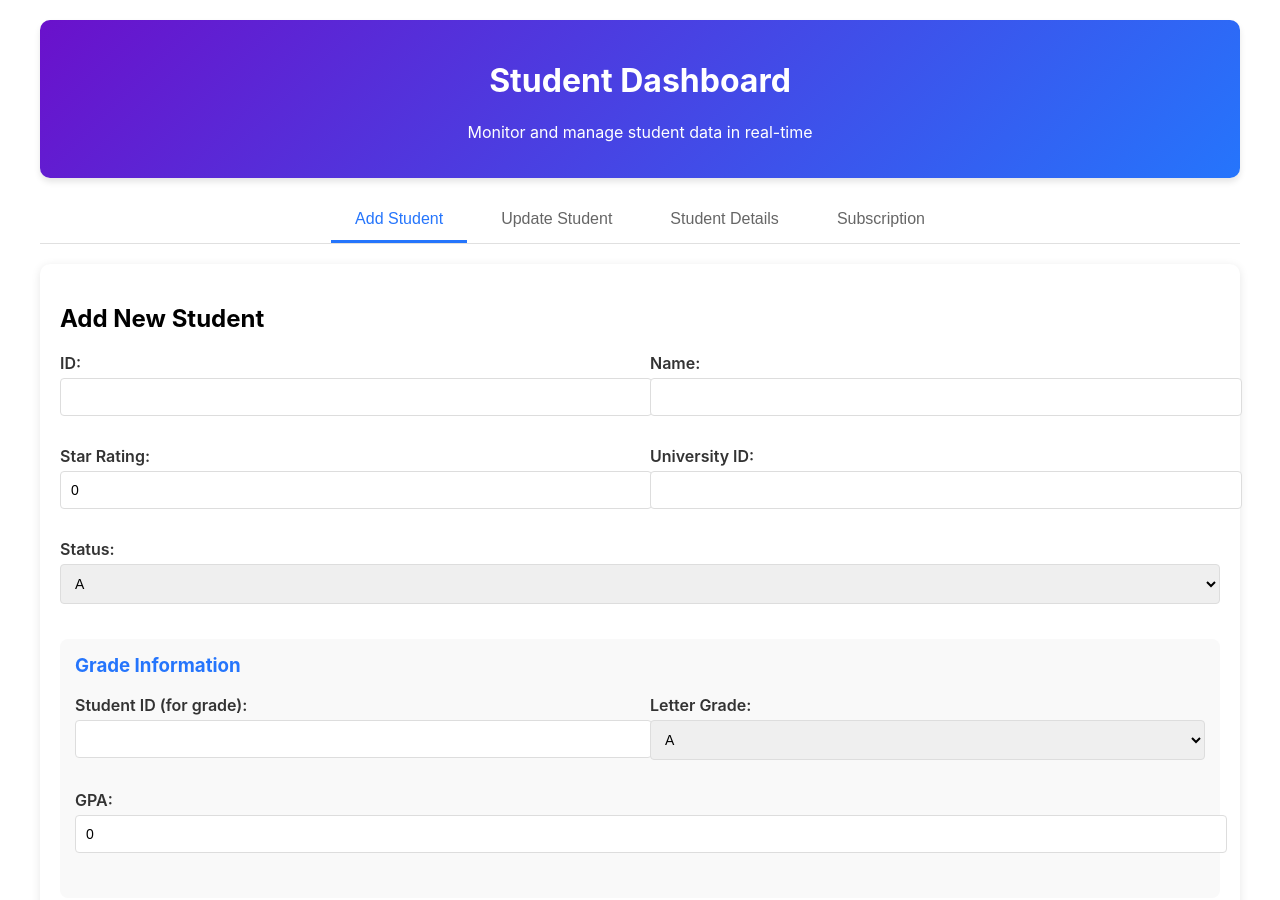
Test: switches between tabs
# Click on the Update Student tab using test ID
Click the button with test id "tab-update" at x=557, y=220, box 477,198 -> 636,243
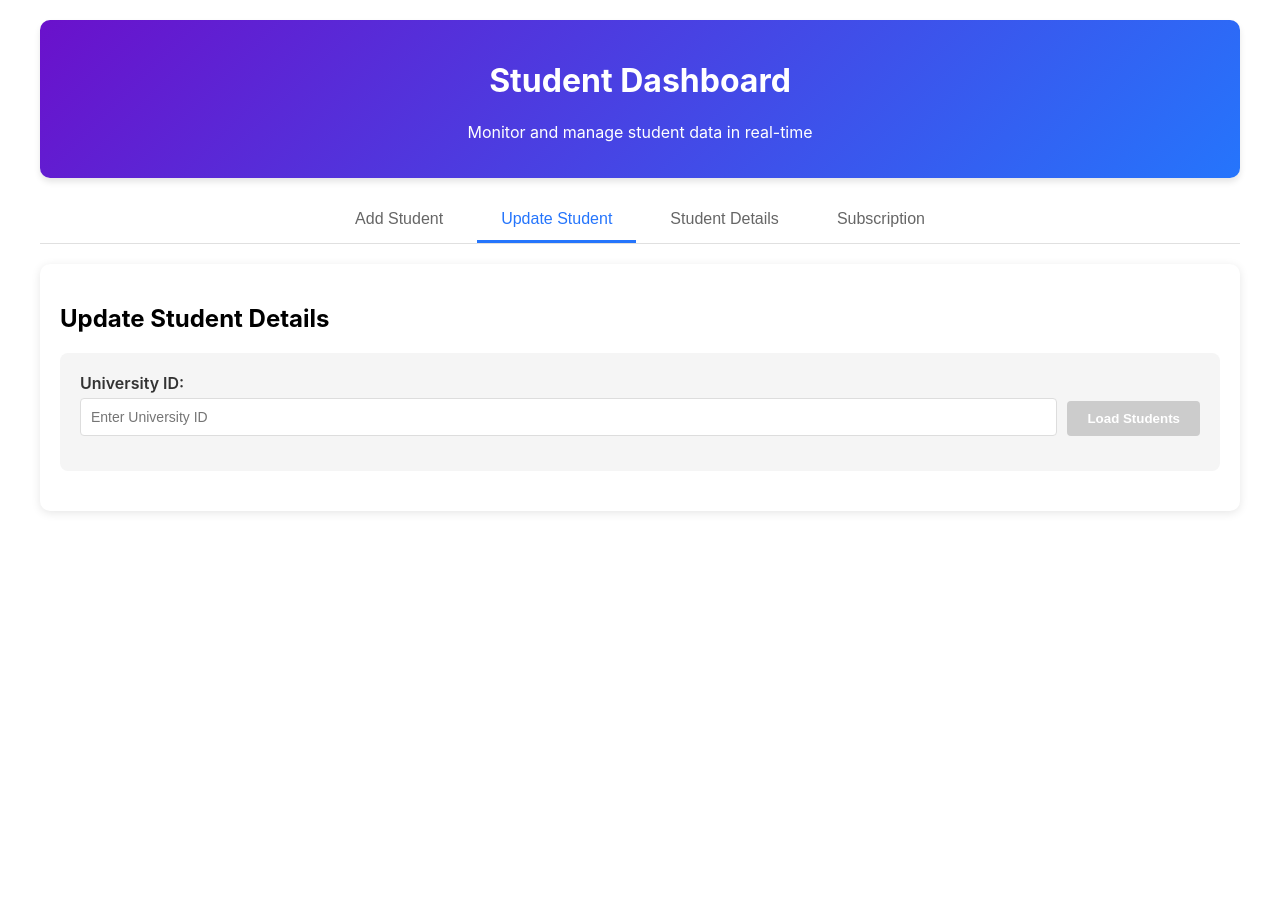
Now the heading "Update Student Details" is shown, box 60,304 -> 330,333
